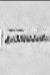N35: (5, 1, 46, 74)
